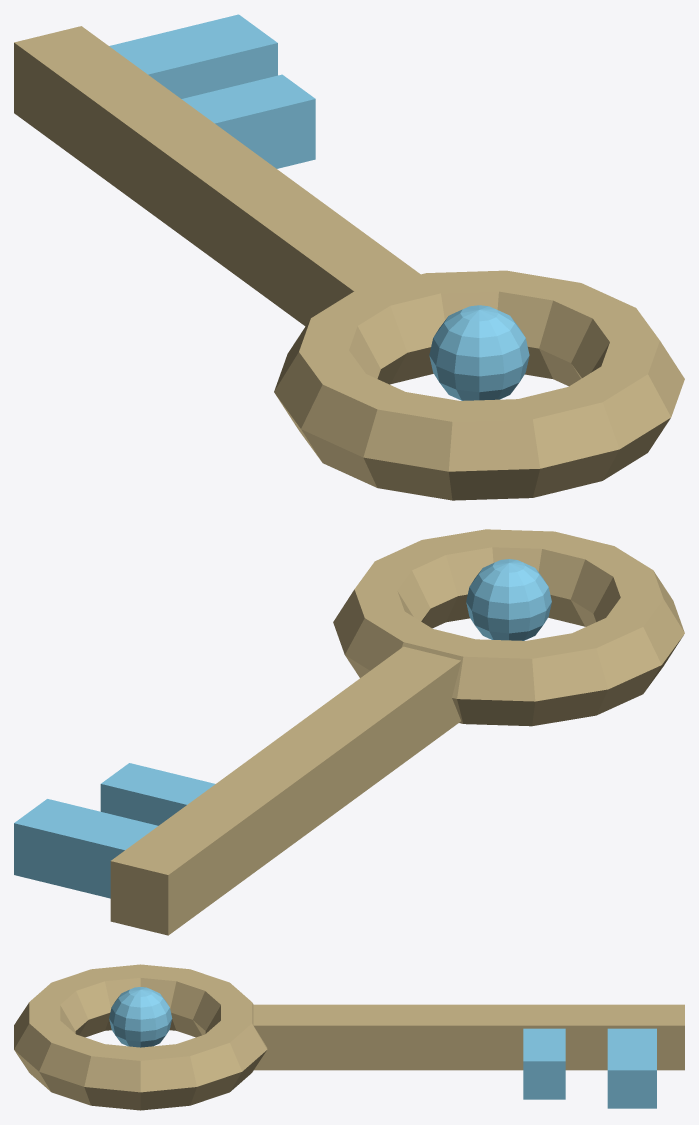
Rendered from arpg_held.gltf.
3 views of the same model, one above another, from view 1: azimuth 30°, elevation 25°; view 2: azimuth 150°, elevation 25°; view 3: azimuth 270°, elevation 25° (orthographic). The views are drawn at different scales.
Visible parts, largest first — view 1: keys_arpg_held; view 2: keys_arpg_held; view 3: keys_arpg_held.
Boxes of the visible parts, bbox=[...] form: keys_arpg_held: bbox=[14, 14, 684, 500]; keys_arpg_held: bbox=[14, 529, 684, 935]; keys_arpg_held: bbox=[14, 964, 684, 1110].
Bounding box in the file's own units: 0.074 × 0.0228 × 0.1911.
